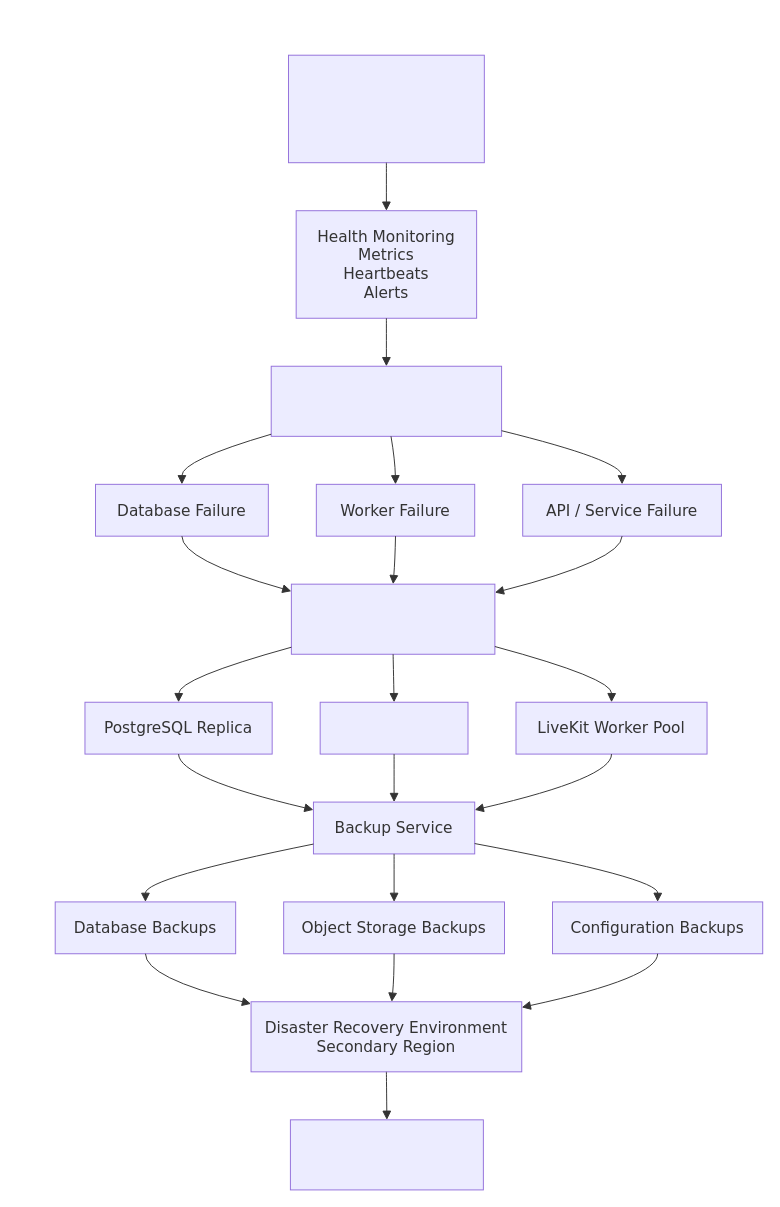
Some shapes in this 780 by 1207 pixel diagram are drawn without their labels. The box of each missing label's shape, as (x1, y1, x2, y2) in pixels:
Failover Controller Recovery Automation: (290, 583, 495, 654)
Failure Detection Layer Automatic Health Checks: (270, 365, 502, 436)
Production Platform Frontend FastAPI LiveKit: (288, 54, 484, 163)
Recovery Validation Restore Tests: (289, 1119, 483, 1190)
Redis Replica: (319, 701, 468, 754)
